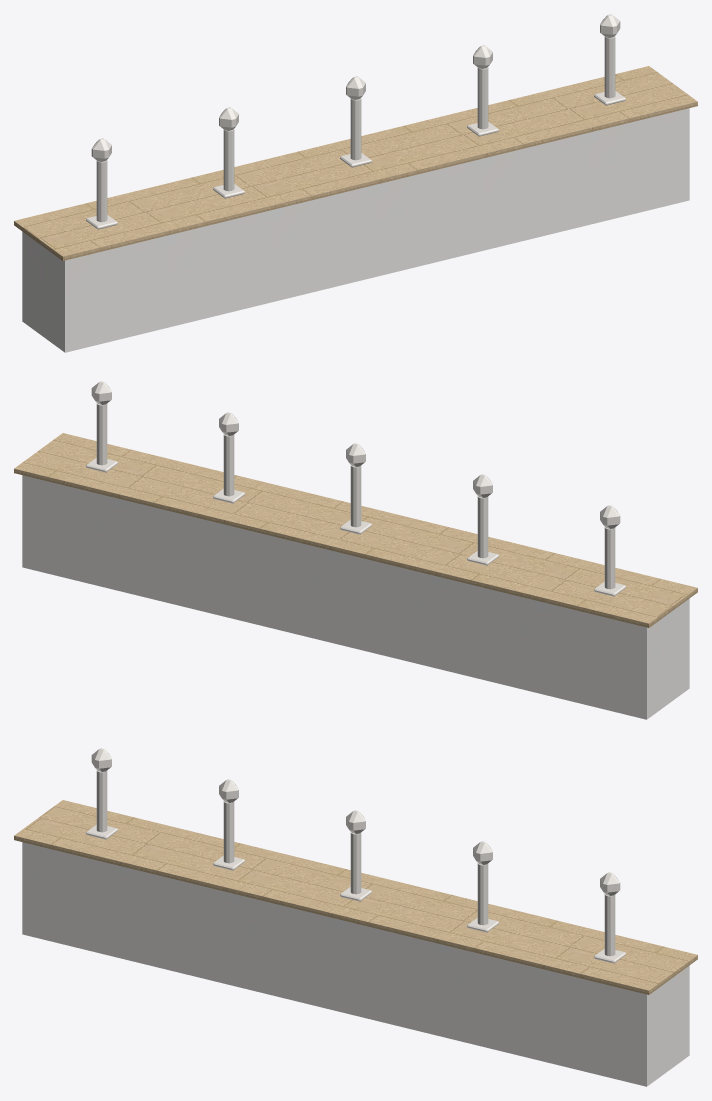
3 views of the same model, one above another, from view 1: azimuth 30°, elevation 25°; view 2: azimuth 150°, elevation 25°; view 3: azimuth 330°, elevation 25° (orthographic).
Visible parts, largest first — view 1: Decor_head_form_table; view 2: Decor_head_form_table; view 3: Decor_head_form_table.
Part boxes in pixels (box(x1,y1,x2,y2)): Decor_head_form_table: box(14, 14, 697, 352); Decor_head_form_table: box(14, 381, 697, 719); Decor_head_form_table: box(14, 748, 697, 1086).
Bounding box in the file's own units: 6 × 1.66 × 0.7999.
3 materials, 3 textured.
